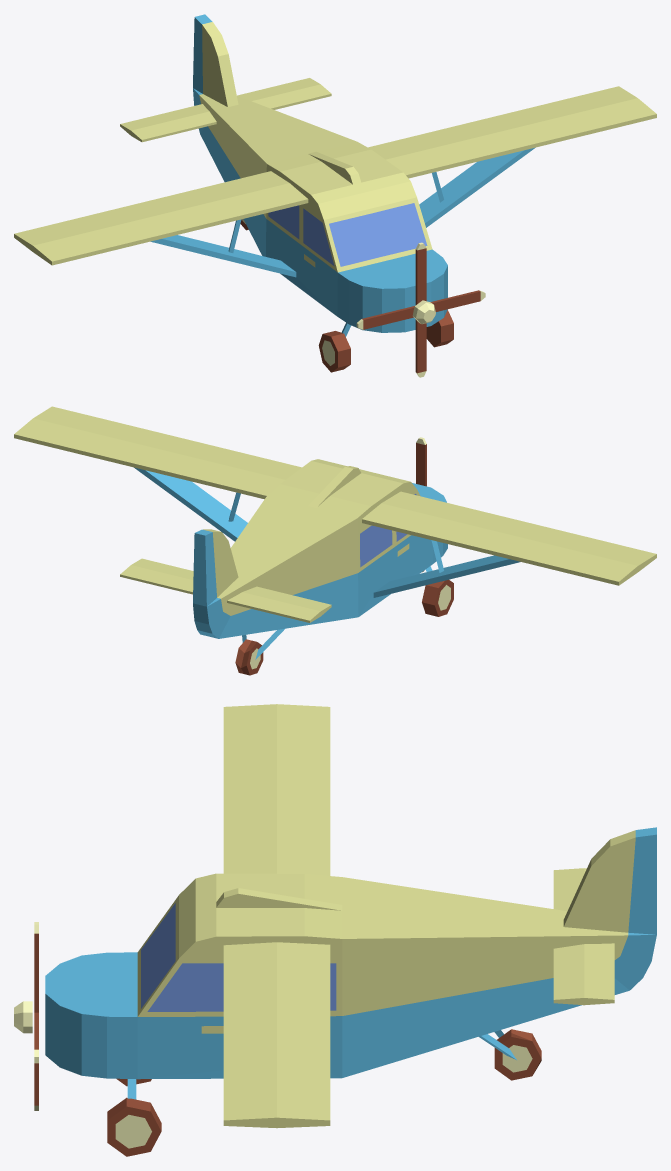
Rendered from char_2.fbx.
The picture shows the model from 3 angles, top to bottom: view 1: azimuth 30°, elevation 25°; view 2: azimuth 150°, elevation 25°; view 3: azimuth 270°, elevation 25°; orthographic projection. The views are drawn at different scales.
Visible parts, largest first — view 1: char_2; view 2: char_2; view 3: char_2.
Boxes of the visible parts, x1=… form: char_2: x1=14, y1=14, x2=656, y2=377; char_2: x1=14, y1=406, x2=656, y2=675; char_2: x1=14, y1=704, x2=656, y2=1156.
Bounding box in the file's own units: 414 × 134 × 272.
